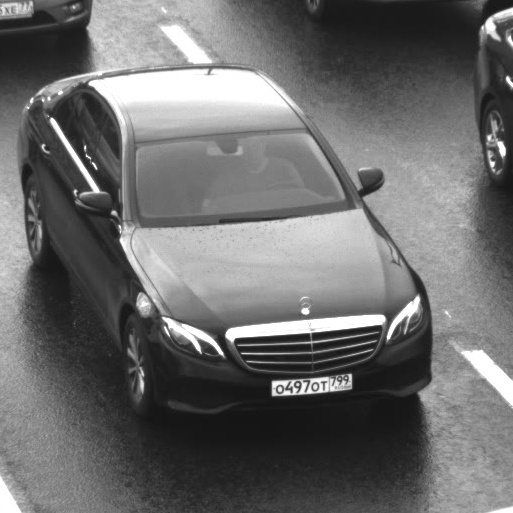plate: (260, 364, 361, 405)
